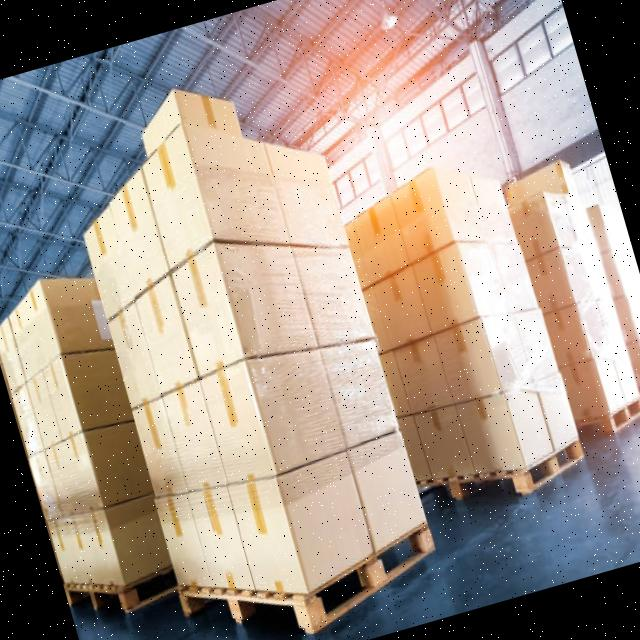Wooden-Pallets: (176, 509, 447, 640), (425, 429, 593, 514), (600, 388, 640, 446)
